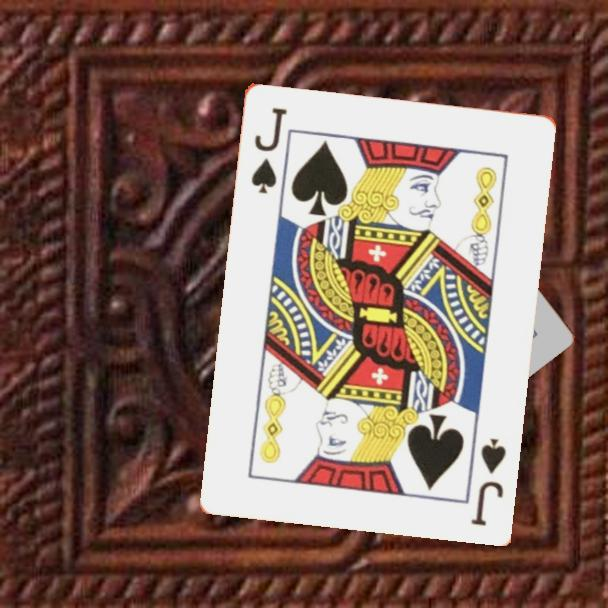s11: (247, 103, 289, 196), (467, 434, 508, 528)
